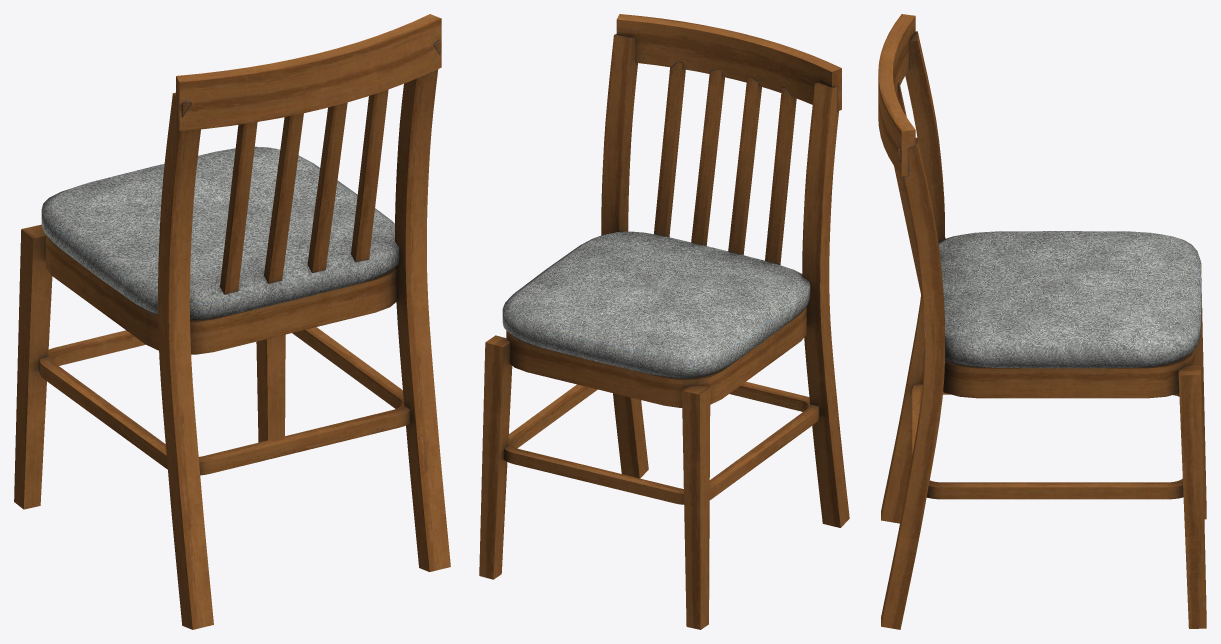
File: chair_spindle_web.glb
The picture shows the model from 3 angles, left to right: view 1: azimuth 30°, elevation 25°; view 2: azimuth 150°, elevation 25°; view 3: azimuth 270°, elevation 25°; orthographic projection. The views are drawn at different scales.
Visible parts, largest first — view 1: ChairSpindle_Mesh; view 2: ChairSpindle_Mesh; view 3: ChairSpindle_Mesh.
Boxes of the visible parts, box(x1,y1,x2,y2) form: ChairSpindle_Mesh: box(14, 14, 450, 629); ChairSpindle_Mesh: box(479, 14, 849, 629); ChairSpindle_Mesh: box(878, 14, 1206, 629).
Size of the model in its own units: 0.4205 by 0.8327 by 0.4965.
1 material, 1 textured.
